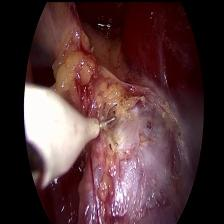Hook: (22, 72, 119, 188)
